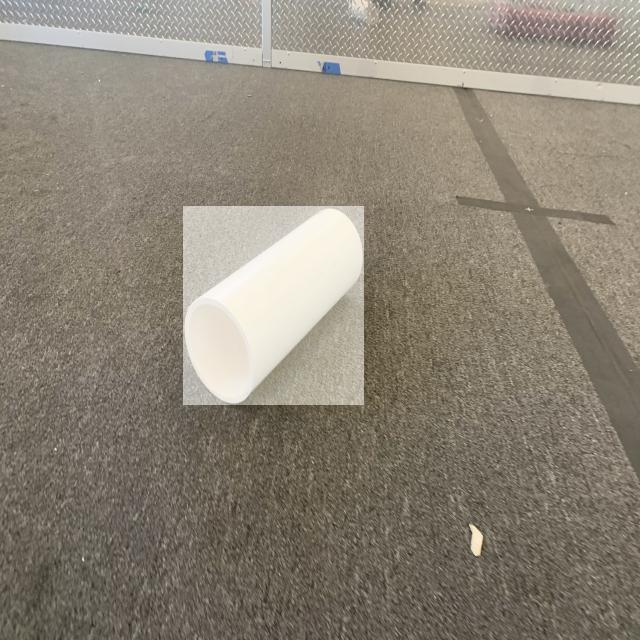Coral: (183, 206, 364, 405)
